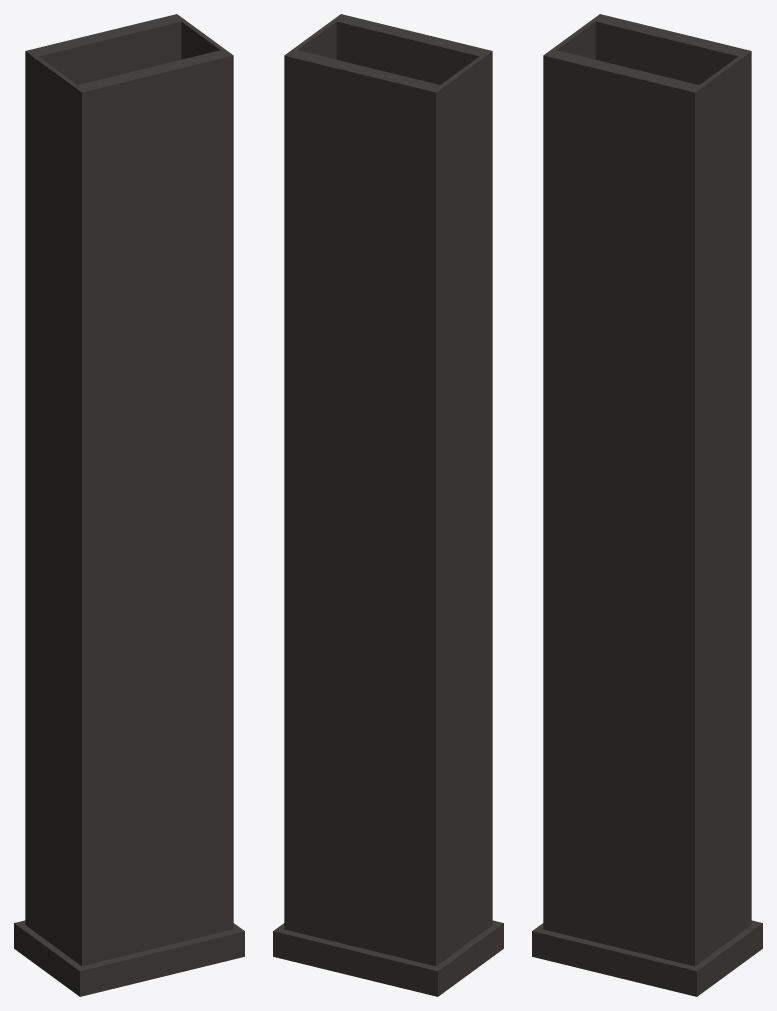
Rendered from Pistol6_06_4.fbx.
The picture shows the model from 3 angles, left to right: view 1: azimuth 30°, elevation 25°; view 2: azimuth 150°, elevation 25°; view 3: azimuth 330°, elevation 25°; orthographic projection.
Parts seen in each view (by area): view 1: Pistol6_06_4; view 2: Pistol6_06_4; view 3: Pistol6_06_4.
Boxes of the visible parts, left/top/right/bottom form: Pistol6_06_4: left=14, top=14, right=244, bottom=996; Pistol6_06_4: left=273, top=14, right=503, bottom=996; Pistol6_06_4: left=532, top=14, right=762, bottom=996.
Size of the model in its own units: 0.0391 by 0.2038 by 0.0271.
